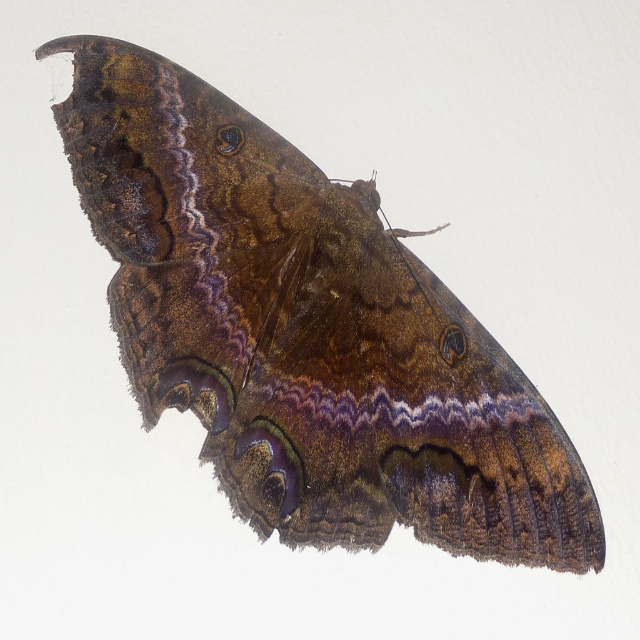Butterfly: (17, 52, 600, 546)
